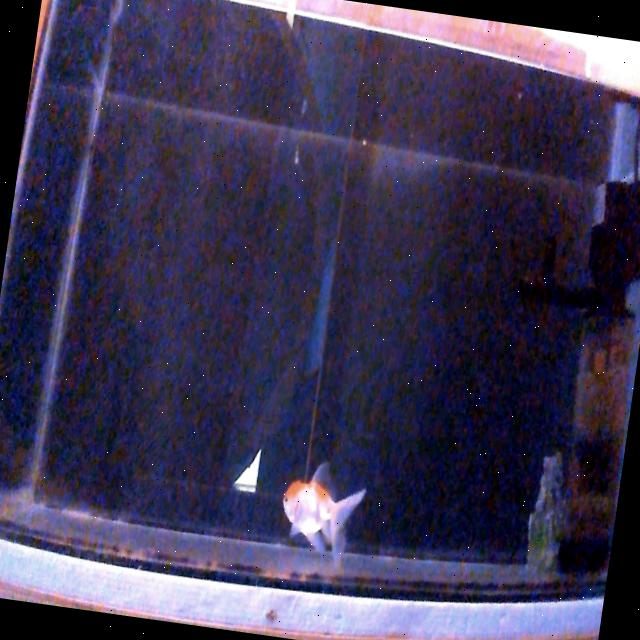fish: (274, 457, 369, 568)
